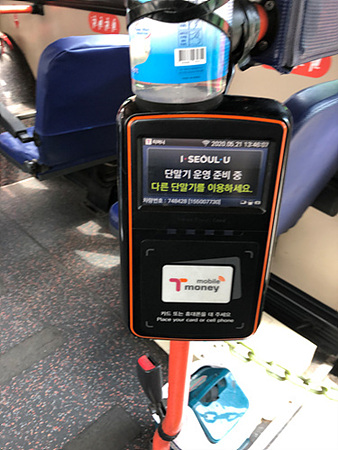terminal: (123, 94, 283, 338)
